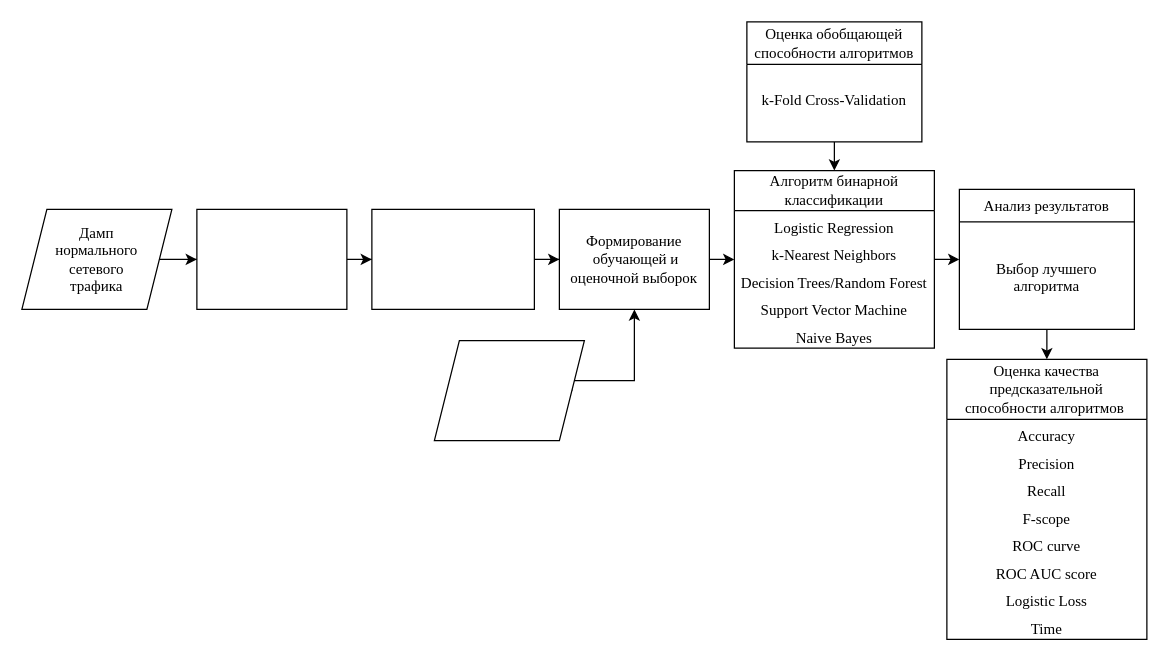
Some shapes in this 1169 by 665 pixel diagram are drawn without their labels. Here are the shapes that lost their labels. From the top down, the centre of each, then its label:
the point at 271,258: Извлечение статистических характеристик
the point at 452,258: Создание сигнатуры нормального трафика
the point at 508,390: Датасет с аномальными сигнатурами
